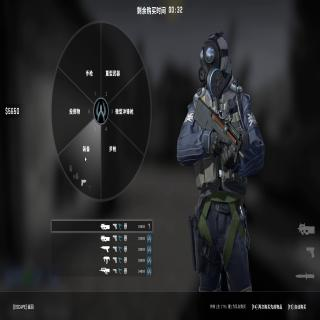CT-Head: (198, 32, 230, 86)
